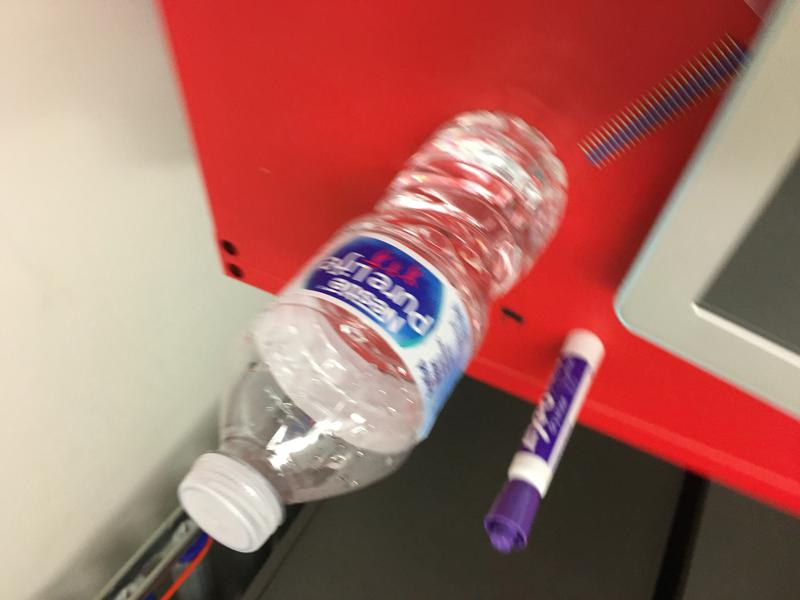bottle: (175, 108, 568, 554)
